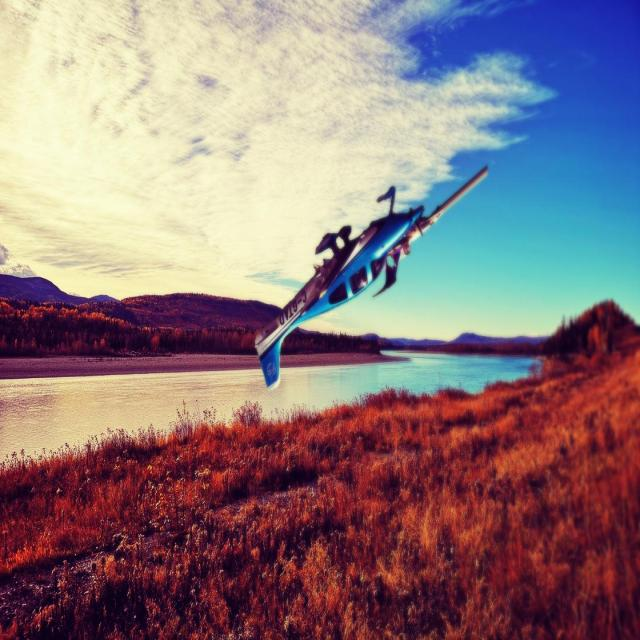airplane: (252, 163, 488, 390)
